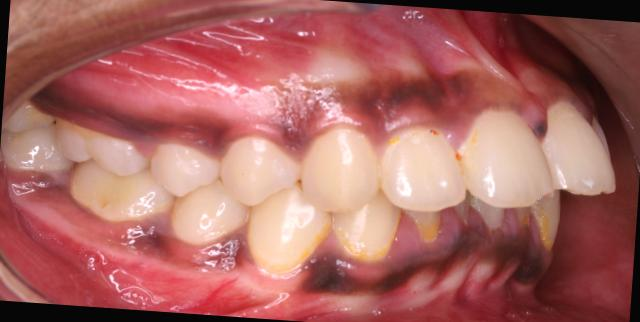canine class II 1/4: (241, 117, 407, 286)
molar class I: (38, 114, 177, 243)
